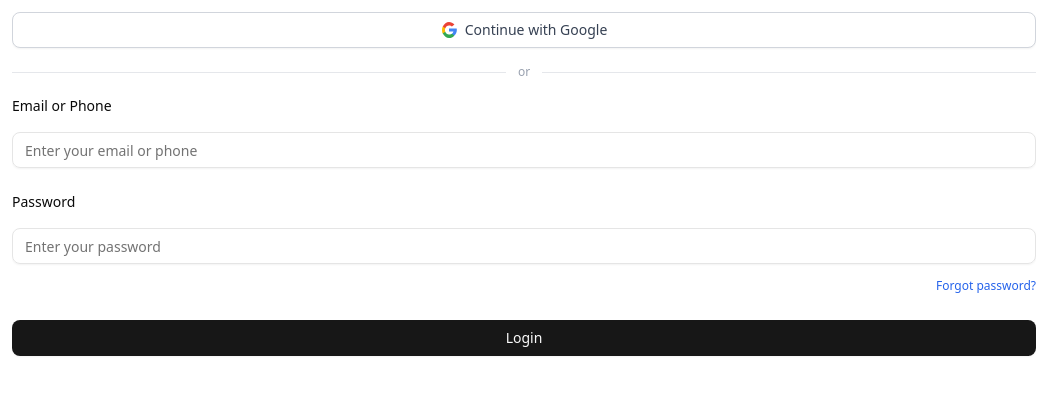
Test case: LoginForm › shows error on login failure
In the field with placeholder "Enter your email or phone": point(524, 150) [12, 132, 1036, 168], type "test@example.com"
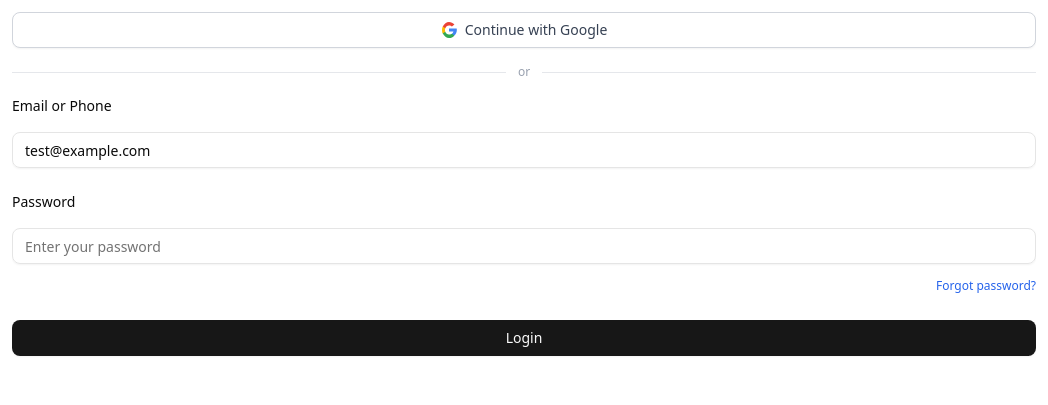
In the password field with placeholder "Enter your password": point(524, 246) [12, 228, 1036, 264], type "Password1!"
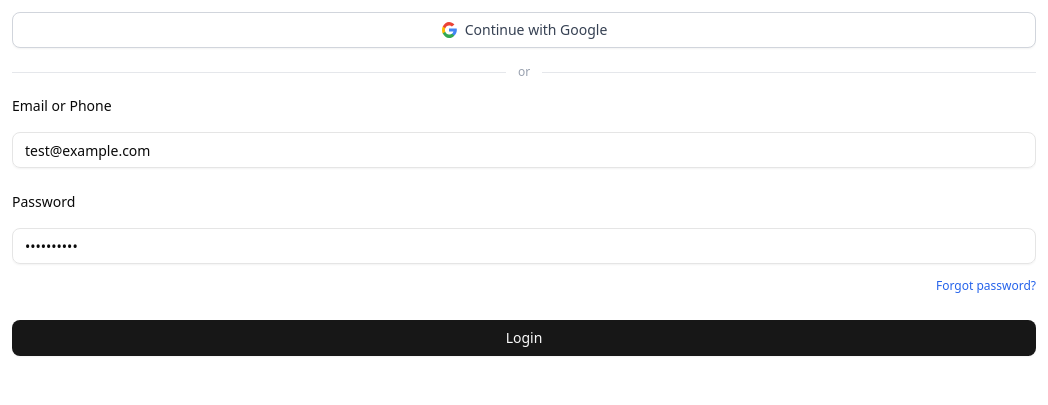
Click the button "Login": point(524, 338) [12, 320, 1036, 356]
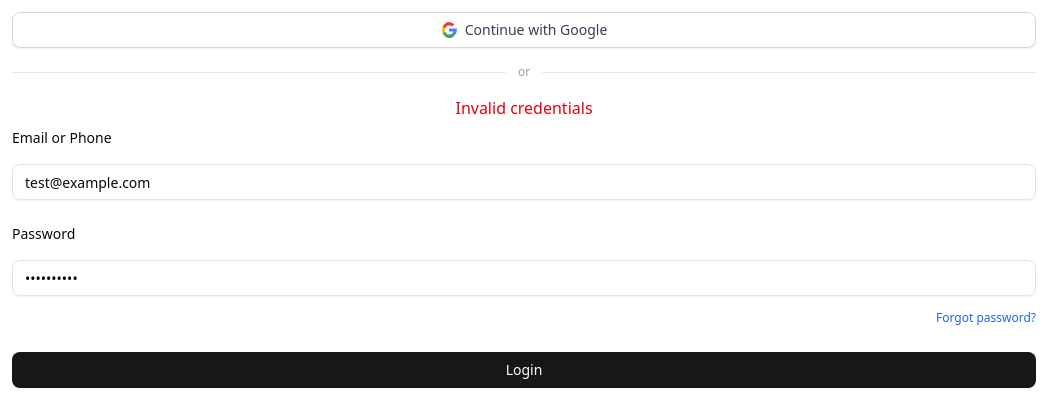
Result: the text "Invalid credentials" is shown at [456, 97, 593, 119]
